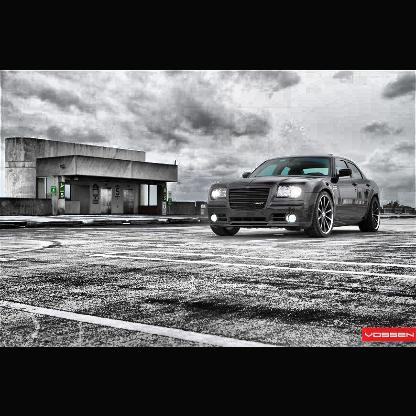Chrysler 300 SRT-8 2010: (208, 153, 385, 236)
